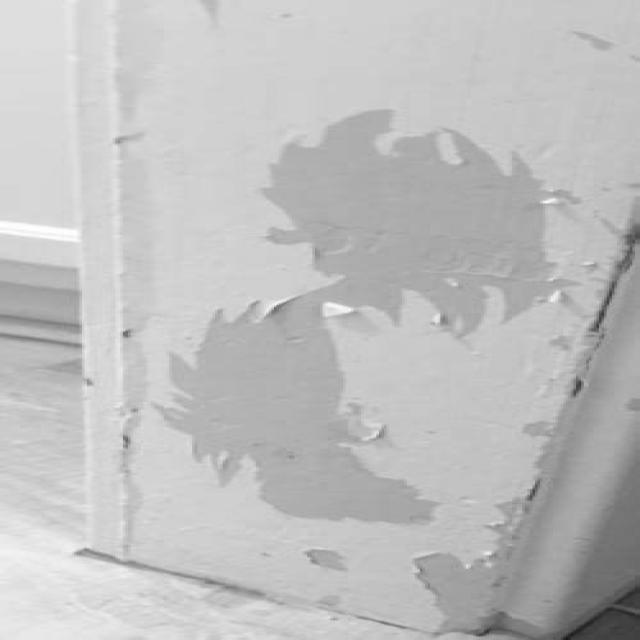peeling paint: (110, 1, 640, 640)
